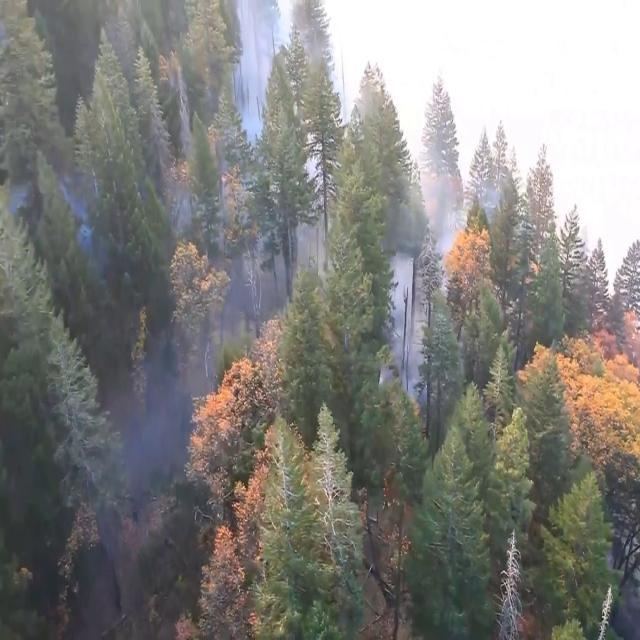Smoke: (373, 21, 556, 158), (48, 142, 131, 294), (92, 358, 180, 499), (402, 116, 460, 266), (360, 306, 435, 408), (240, 11, 278, 136)
